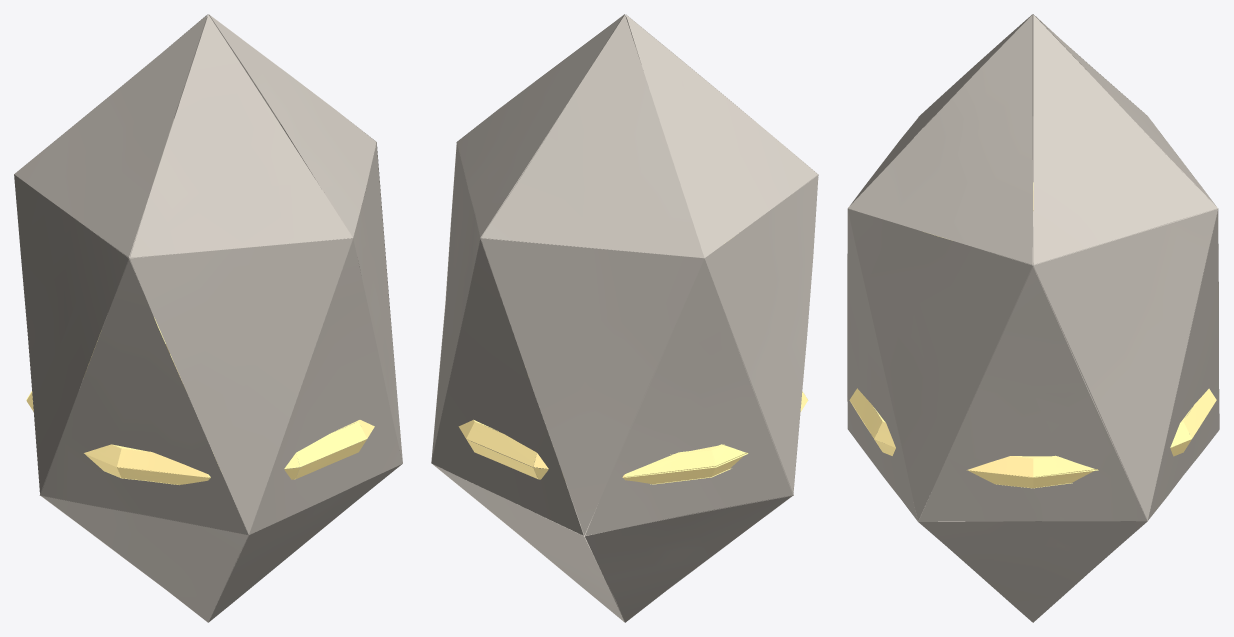
Rendered from egg_large.glb.
3 renders of one model, left to right at view 1: azimuth 30°, elevation 25°; view 2: azimuth 150°, elevation 25°; view 3: azimuth 270°, elevation 25°, orthographic.
Parts seen in each view (by area): view 1: EggShell; view 2: EggShell; view 3: EggShell.
Part boxes in pixels (bbox=[...]): EggShell: bbox=[14, 14, 402, 622]; EggShell: bbox=[431, 14, 818, 622]; EggShell: bbox=[847, 14, 1219, 622].
Bounding box in the file's own units: 0.9982 × 1.72 × 0.9544.
